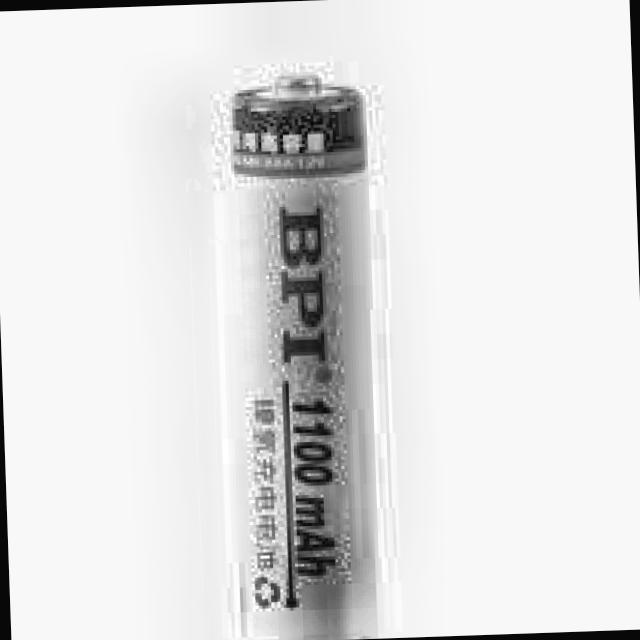Battery: (221, 66, 384, 640)
